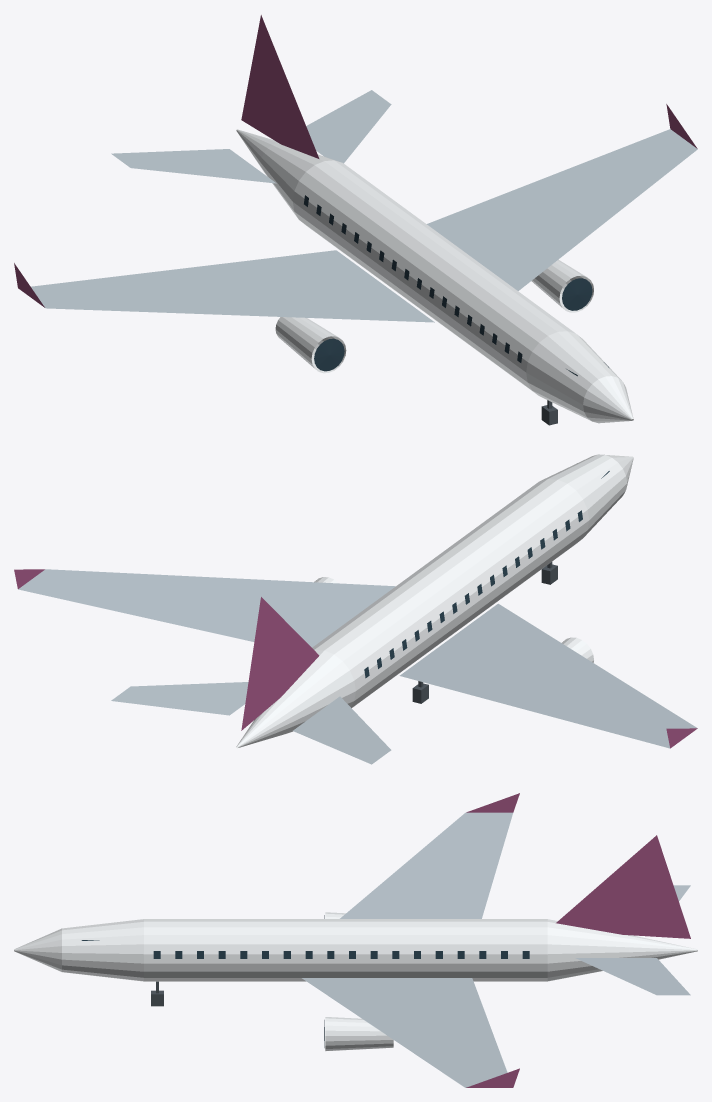
The model's file is b787-QTR.gltf.
3 views of the same model, one above another, from view 1: azimuth 30°, elevation 25°; view 2: azimuth 150°, elevation 25°; view 3: azimuth 270°, elevation 25° (orthographic). The views are drawn at different scales.
Parts seen in each view (by area): view 1: object 1; view 2: object 1, Gear; view 3: object 1.
Boxes of the visible parts, box(x1,y1,x2,y2) form: object 1: box(14, 15, 697, 423); object 1: box(14, 454, 697, 764); Gear: box(412, 562, 557, 703); object 1: box(14, 793, 697, 1087).
Bounding box in the file's own units: 60 × 17.22 × 63.
